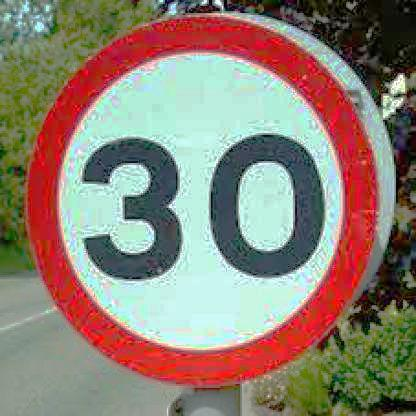Speed Limit -30-: (15, 6, 395, 389)
